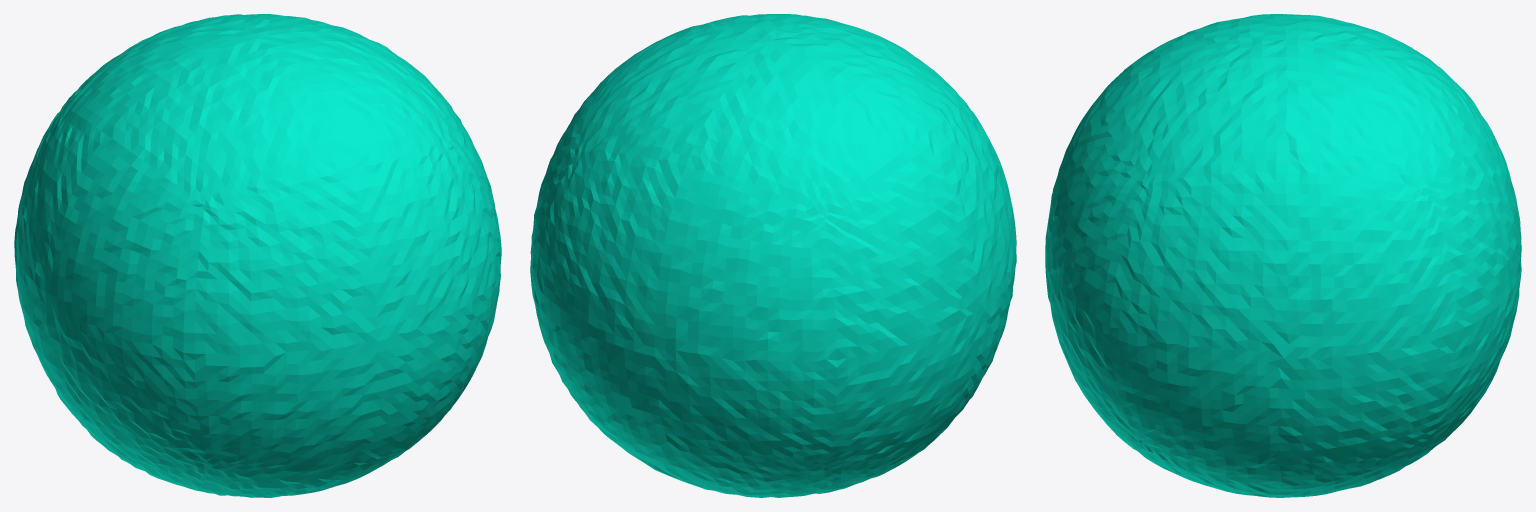
Rendered from Sea36.fbx.
3 renders of one model, left to right at view 1: azimuth 30°, elevation 25°; view 2: azimuth 150°, elevation 25°; view 3: azimuth 270°, elevation 25°, orthographic.
Parts seen in each view (by area): view 1: pCube1; view 2: pCube1; view 3: pCube1.
Boxes of the visible parts, x1,y1,x2,y2 form: pCube1: (14,14,501,497); pCube1: (530,14,1016,497); pCube1: (1045,14,1521,497).
Size of the model in its own units: 40.15 by 40.14 by 40.11.
